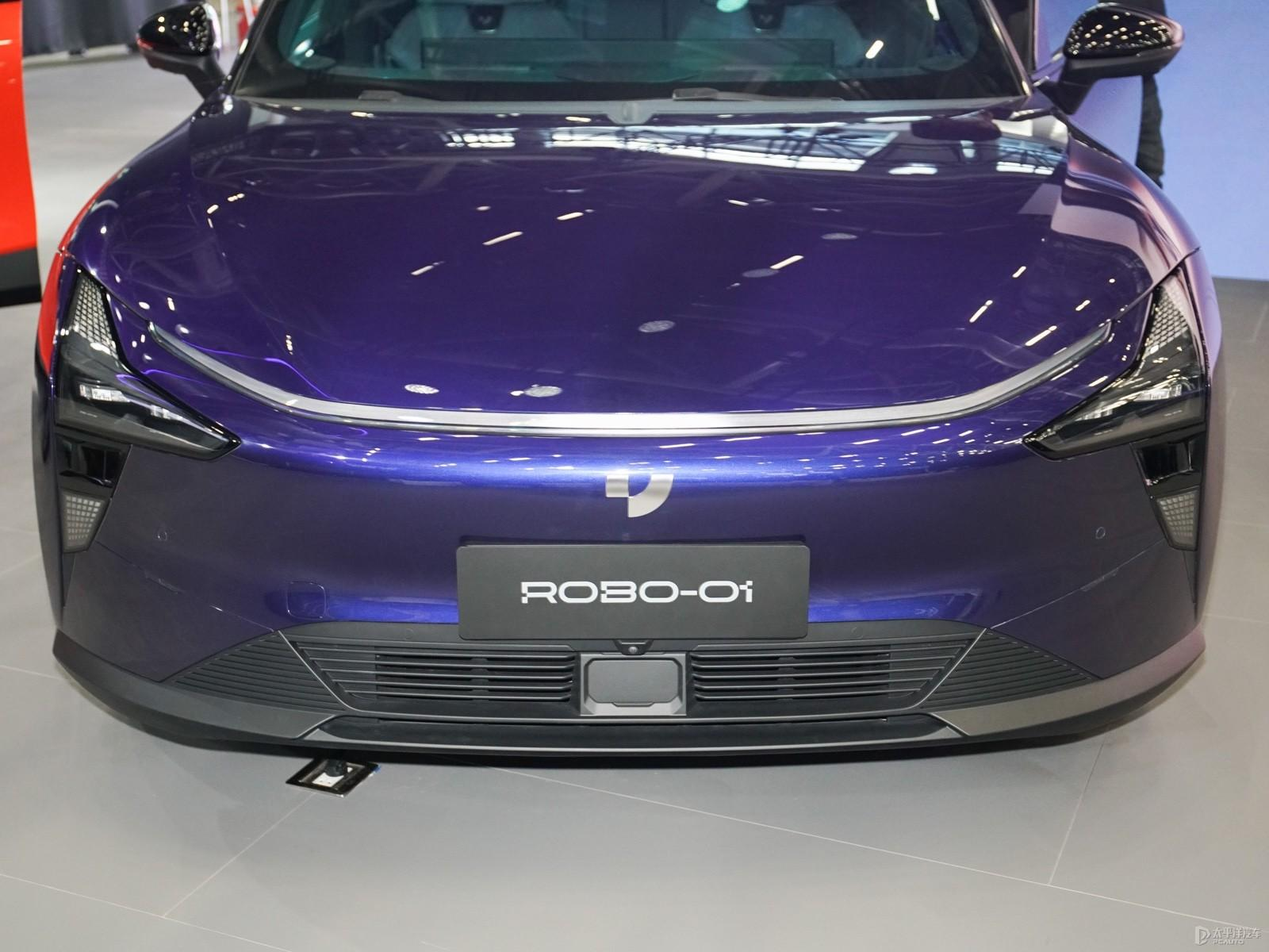JIYUE: (604, 472, 675, 520)
